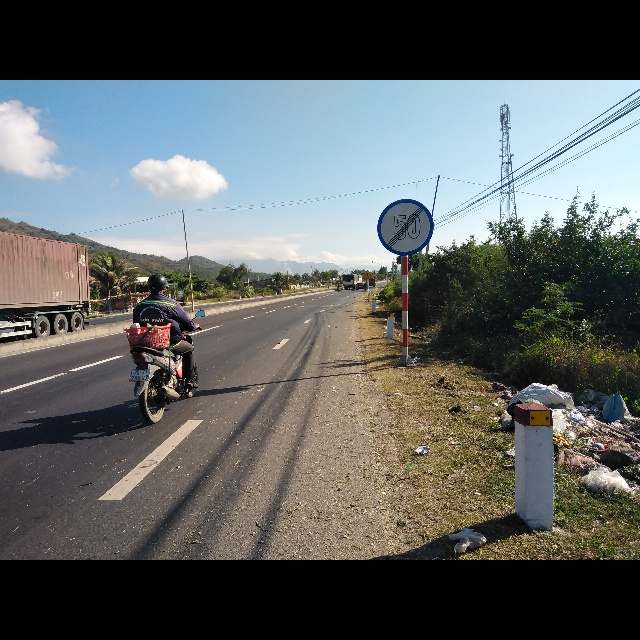Hết hạn chế tốc độ tối đa 50km/h: (377, 196, 435, 256)
